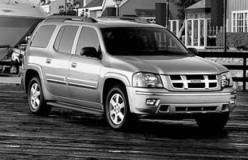car: (24, 15, 240, 127)
